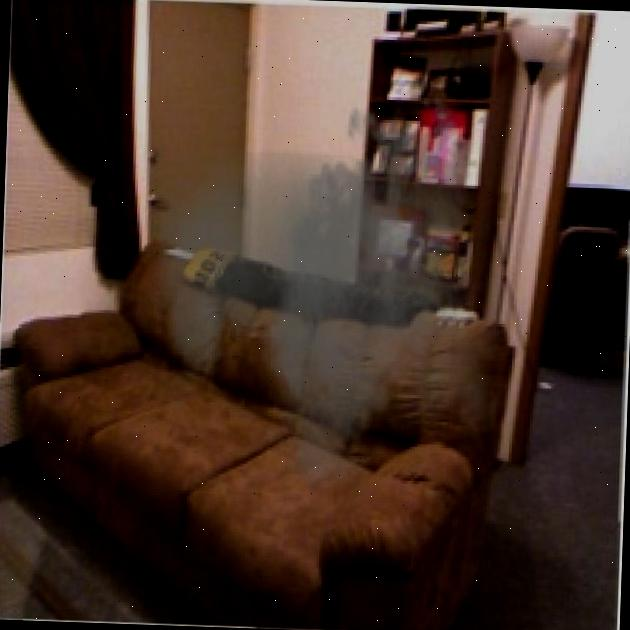smoke: (141, 71, 507, 509)
